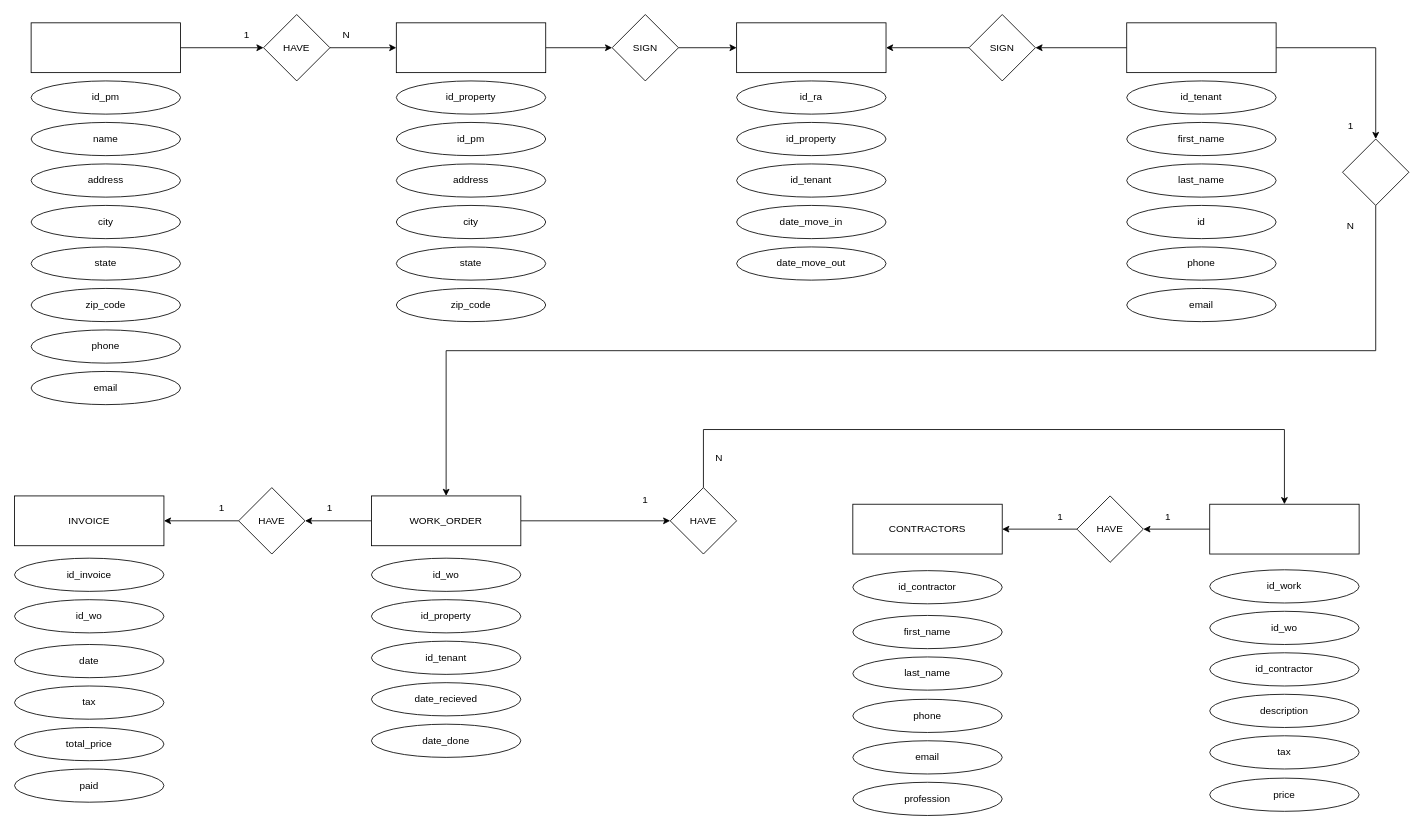
This 1423x830 diagram has some shape labels left out. The box of each missing label's shape, as (x1, y1, x2, y2) in pixels:
PROPERTIES: (395, 22, 546, 73)
PROPERTY_MANAGEMENT: (30, 22, 181, 73)
PUT: (1342, 138, 1409, 205)
RENTAL_AGREEMENT: (736, 22, 886, 73)
TENANT: (1126, 22, 1276, 73)
WORKS: (1209, 503, 1359, 554)
